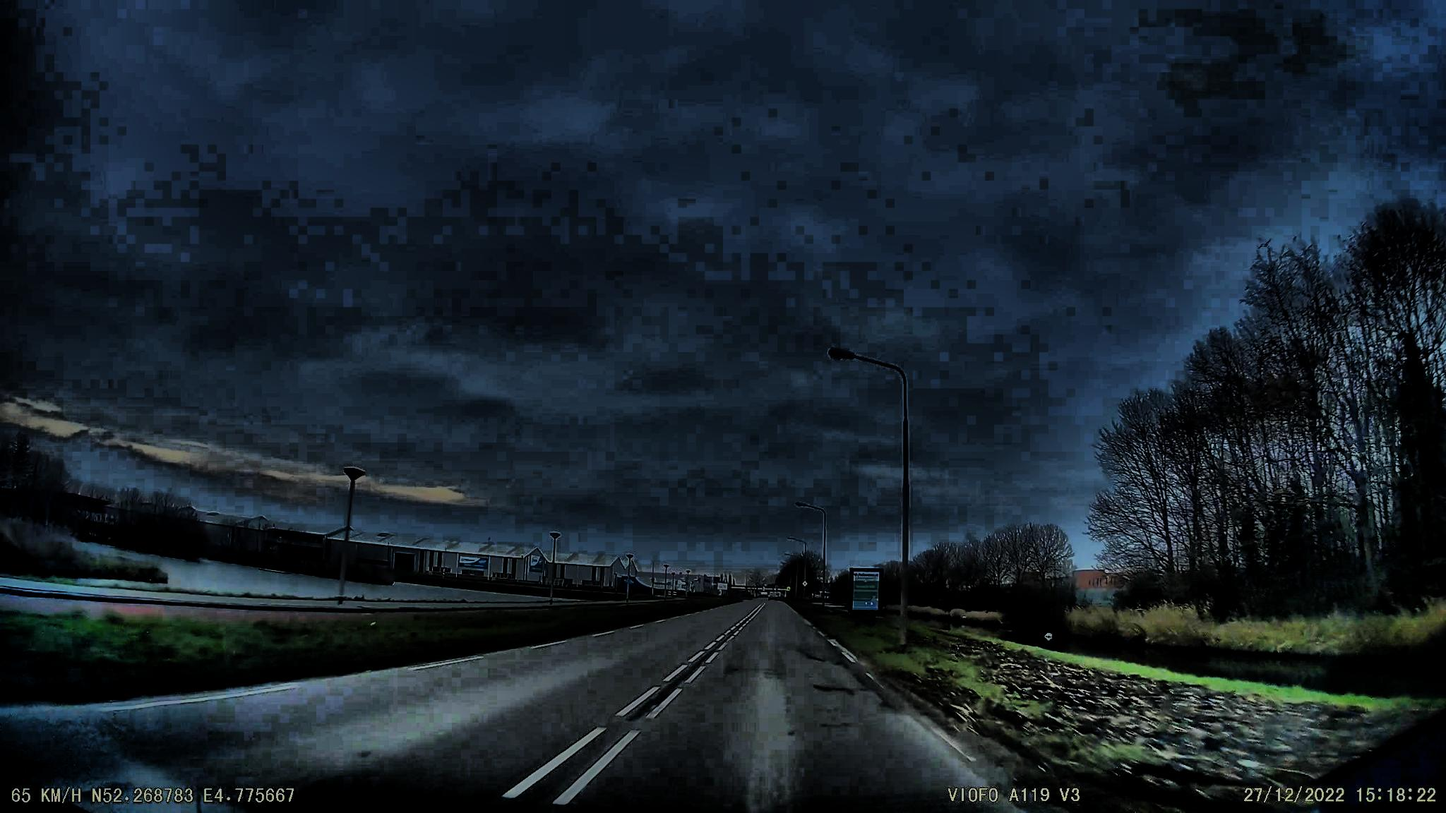Roads: (0, 601, 1185, 813)
